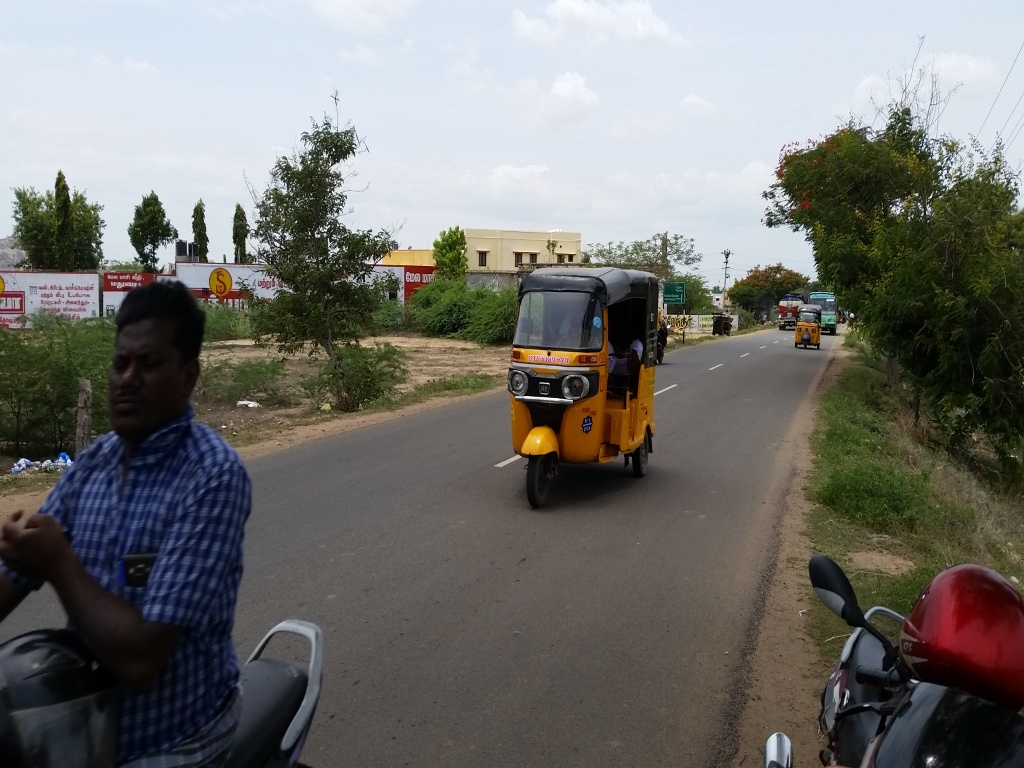biker: (1, 204, 343, 768)
nohelmet: (97, 267, 217, 472)
